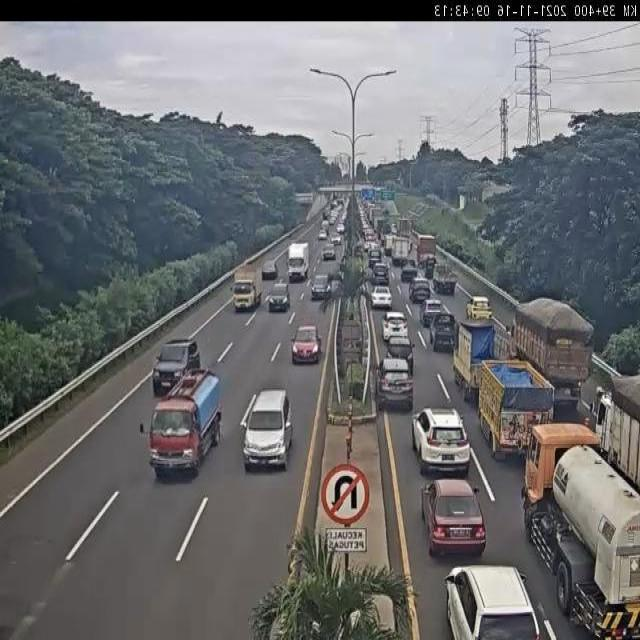Car: (444, 566, 540, 640), (422, 478, 488, 558), (408, 408, 472, 478), (242, 389, 294, 470), (150, 338, 200, 399), (373, 357, 415, 410), (288, 325, 324, 368), (428, 310, 460, 348), (379, 310, 409, 344), (268, 281, 292, 315), (419, 298, 444, 327), (467, 294, 493, 321), (386, 337, 416, 358), (311, 272, 332, 300), (409, 276, 432, 301), (372, 284, 392, 307), (371, 262, 390, 283), (261, 260, 278, 280), (321, 242, 338, 261), (330, 233, 343, 245), (318, 229, 328, 242)
Truck: (519, 422, 640, 640), (140, 370, 222, 480), (511, 296, 591, 406), (480, 361, 556, 461), (593, 371, 640, 489), (454, 321, 509, 402), (231, 266, 264, 310), (286, 240, 312, 282), (432, 262, 459, 294), (416, 233, 436, 265), (392, 236, 409, 266), (396, 218, 412, 239)
